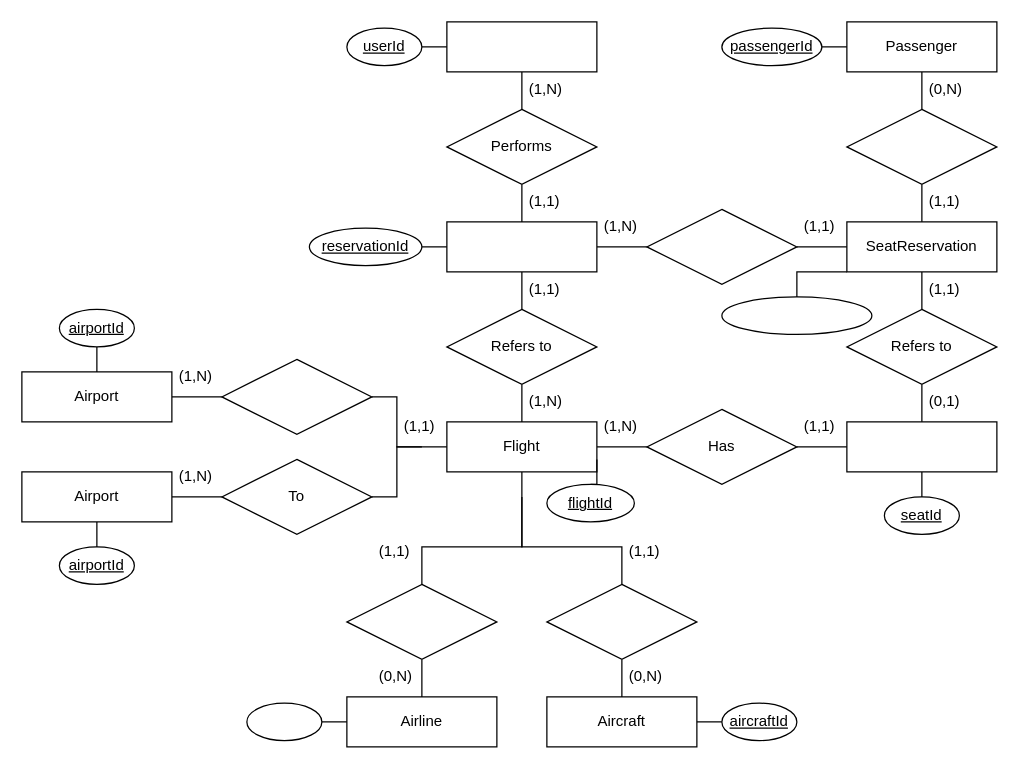
This 1019x769 diagram has some shape labels left out. Here are the shapes that lost their labels. From the top down, the centre of each, then its label:
At point 521,46: "User".
At point 921,146: "Assigned in".
At point 521,246: "Reservation".
At point 721,246: "Belongs to".
At point 796,315: "seatReservationId".
At point 296,396: "From".
At point 921,446: "Seat".
At point 421,621: "Operated by".
At point 621,621: "Uses".
At point 284,721: "airlineId".
